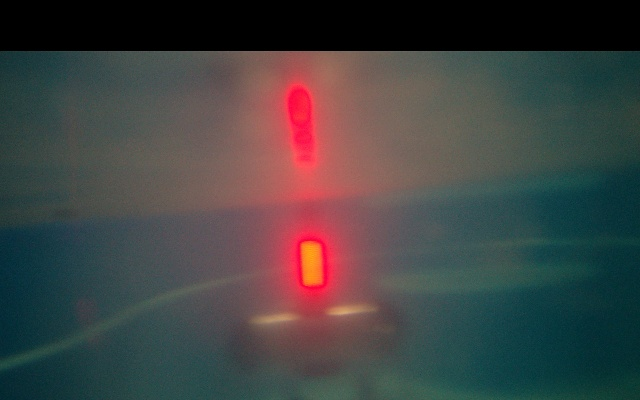red: (297, 236, 325, 309)
